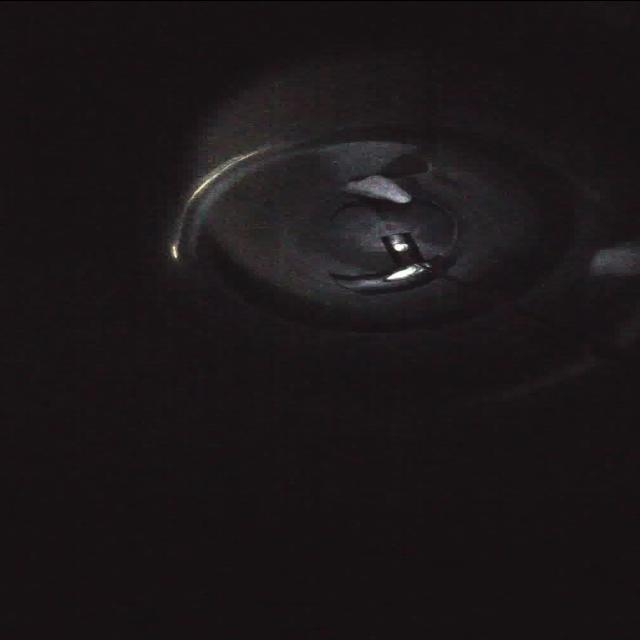impurity: (339, 170, 414, 208)
